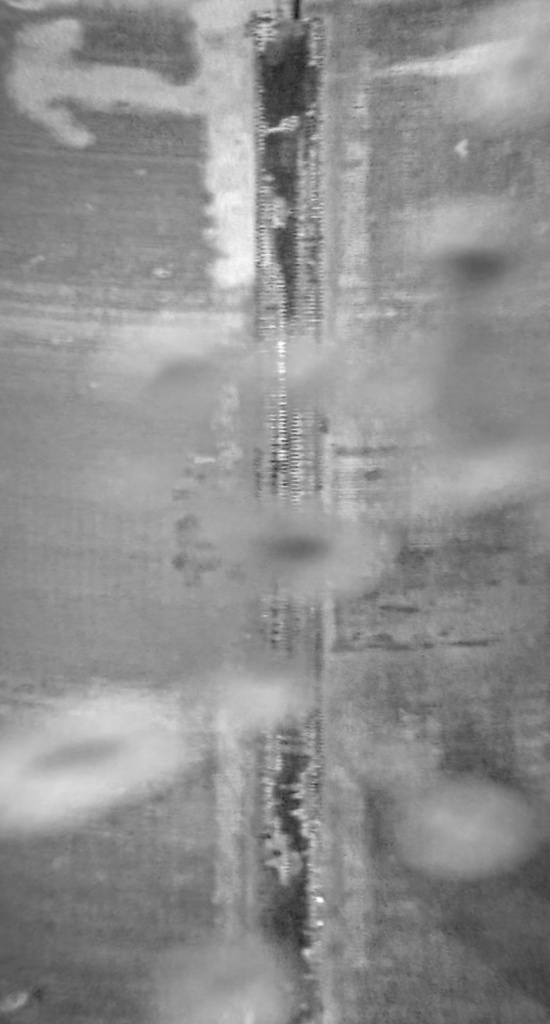splice: (229, 1, 332, 1023)
